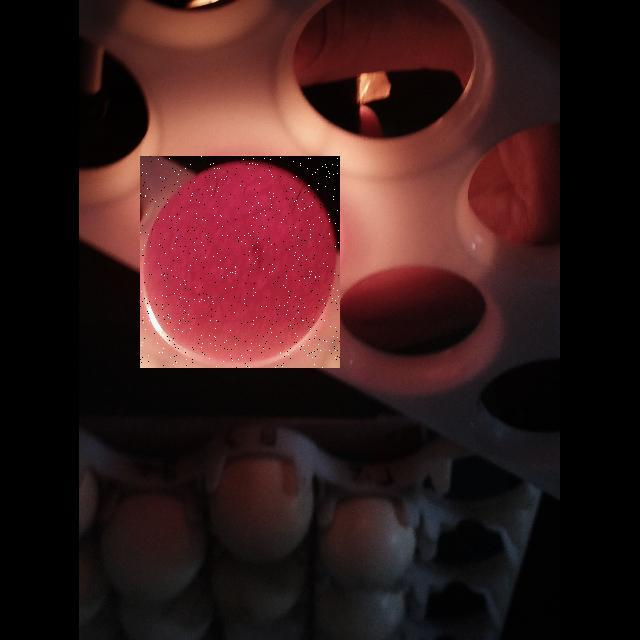Infertile: (140, 156, 340, 368)
